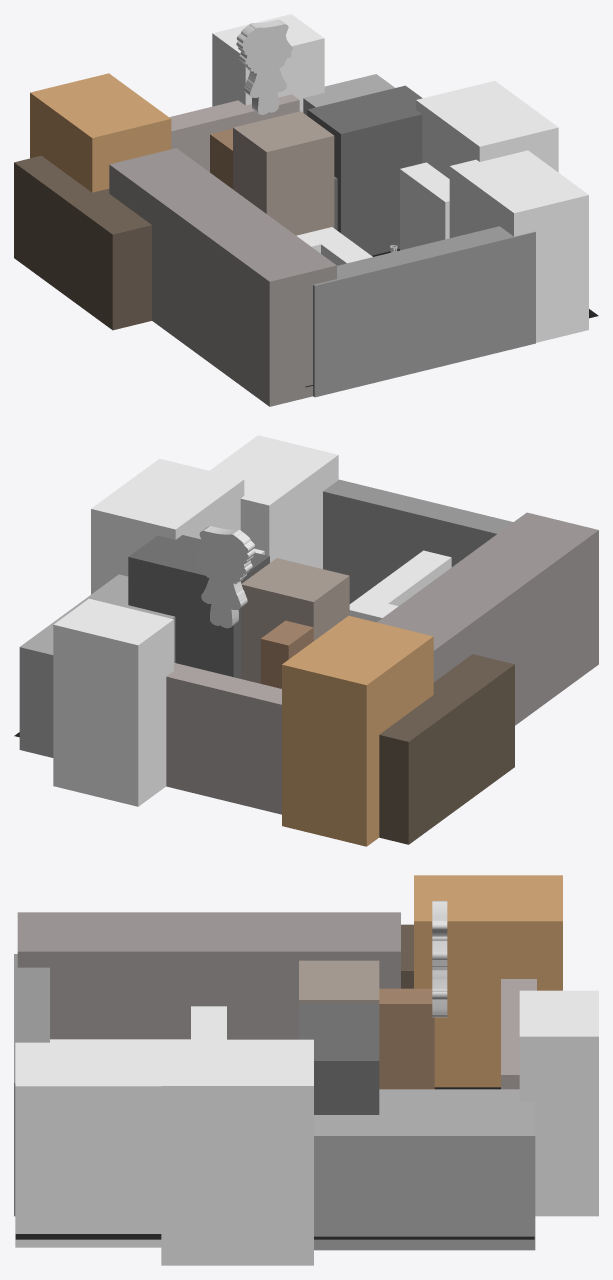
The model's file is casinogoon_3d.gltf.
The picture shows the model from 3 angles, top to bottom: view 1: azimuth 30°, elevation 25°; view 2: azimuth 150°, elevation 25°; view 3: azimuth 270°, elevation 25°; orthographic projection. The views are drawn at different scales.
Visible parts, largest first — view 1: MAP2, casino goon2; view 2: MAP2, casino goon2; view 3: MAP2, casino goon2.
Boxes of the visible parts, x1,y1,x2,y2 form: MAP2: (14,14,598,406); casino goon2: (236,19,292,114); MAP2: (14,435,598,846); casino goon2: (195,526,255,628); MAP2: (14,875,598,1265); casino goon2: (432,901,447,1017).
Size of the model in its own units: 71.51 by 37.5 by 78.02.
